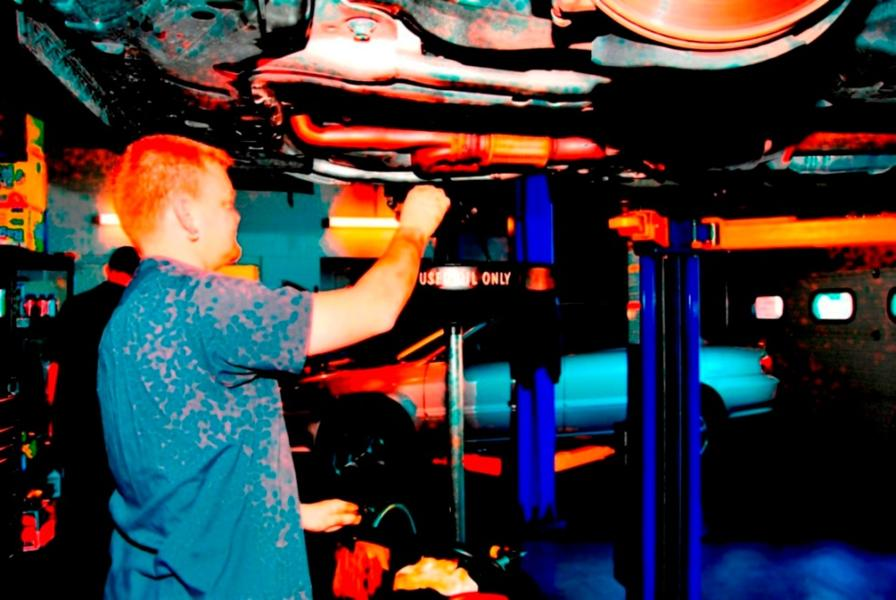person: (92, 135, 451, 596)
